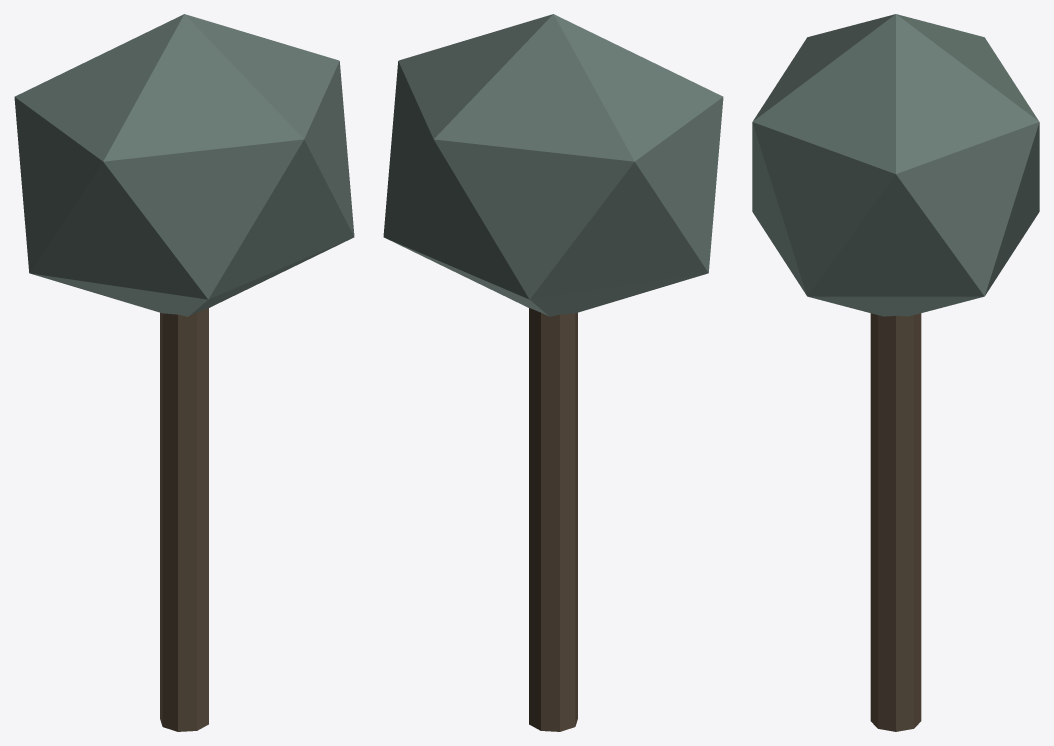
Rendered from hf-street-tree.glb.
3 views of the same model, side by side, from view 1: azimuth 30°, elevation 25°; view 2: azimuth 150°, elevation 25°; view 3: azimuth 270°, elevation 25° (orthographic).
Visible parts, largest first — view 1: UB6_STREET_TREE_CROWN, UB6_STREET_TREE_TRUNK; view 2: UB6_STREET_TREE_CROWN, UB6_STREET_TREE_TRUNK; view 3: UB6_STREET_TREE_CROWN, UB6_STREET_TREE_TRUNK.
Boxes of the visible parts, left/top/right/bottom form: UB6_STREET_TREE_CROWN: left=14, top=14, right=354, bottom=316; UB6_STREET_TREE_TRUNK: left=160, top=308, right=208, bottom=731; UB6_STREET_TREE_CROWN: left=383, top=14, right=723, bottom=316; UB6_STREET_TREE_TRUNK: left=529, top=308, right=577, bottom=731; UB6_STREET_TREE_CROWN: left=752, top=14, right=1039, bottom=316; UB6_STREET_TREE_TRUNK: left=870, top=313, right=921, bottom=731.
Bounding box in the file's own units: 1.7 × 3.7 × 1.36.
